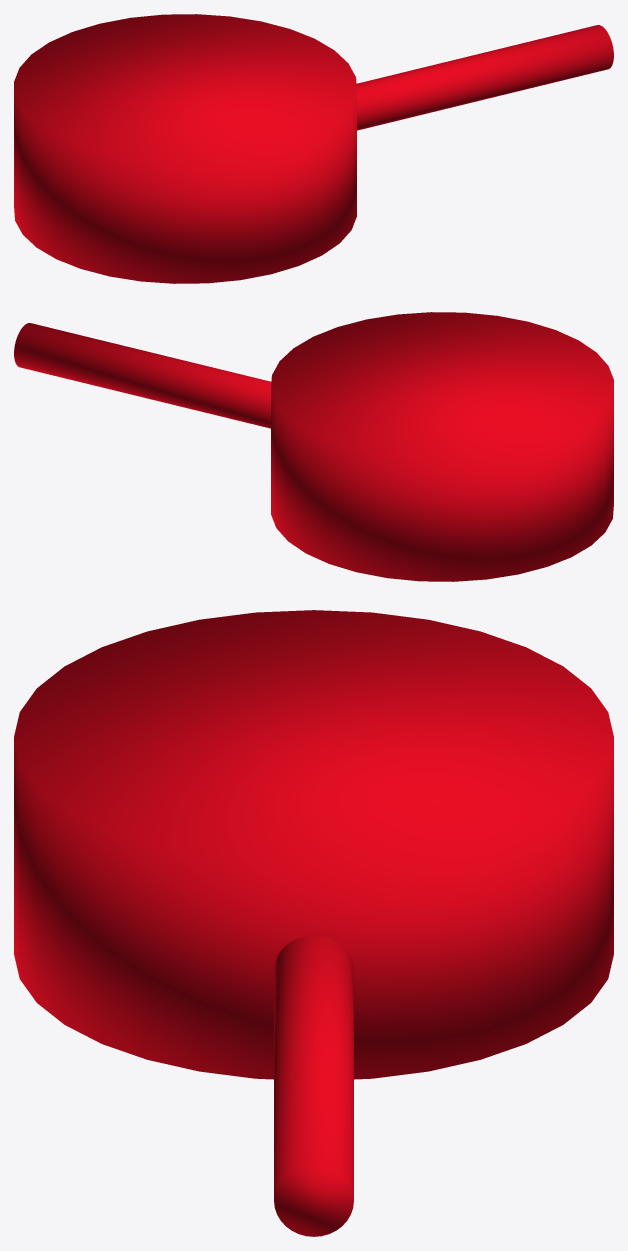
The model's file is player_head_hitmodel.dae.
3 renders of one model, top to bottom at view 1: azimuth 30°, elevation 25°; view 2: azimuth 150°, elevation 25°; view 3: azimuth 270°, elevation 25°, orthographic. The views are drawn at different scales.
Visible parts, largest first — view 1: Head, Barrel; view 2: Head, Barrel; view 3: Head, Barrel.
Part boxes in pixels (x1,y1,x2,y2): Head: (14,14,356,283); Barrel: (356,25,613,130); Head: (271,312,613,581); Barrel: (14,323,271,428); Head: (14,610,613,1079); Barrel: (274,936,353,1236).
Size of the model in its own units: 2.85 by 1.5 by 0.6.
